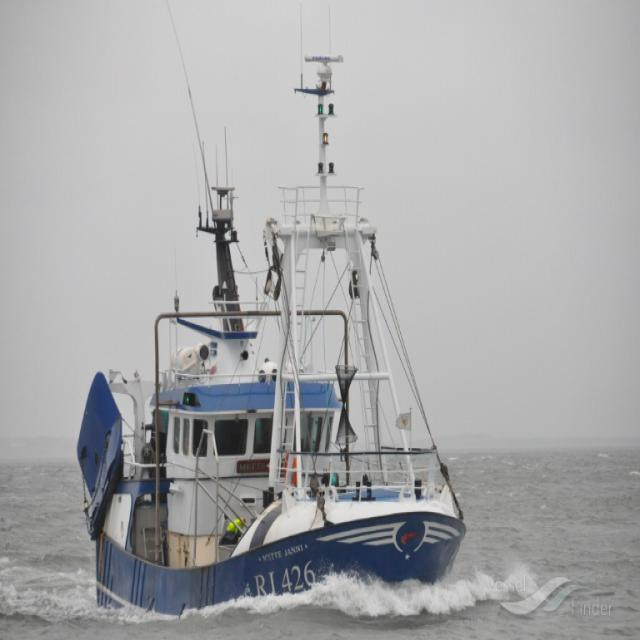Fishing Vessel: (77, 54, 464, 616)
